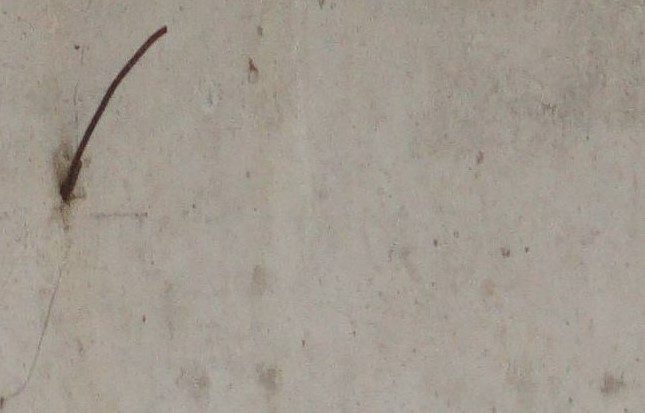Crack: (1, 242, 70, 402)
Exposed reinforcement: (58, 24, 169, 202)
